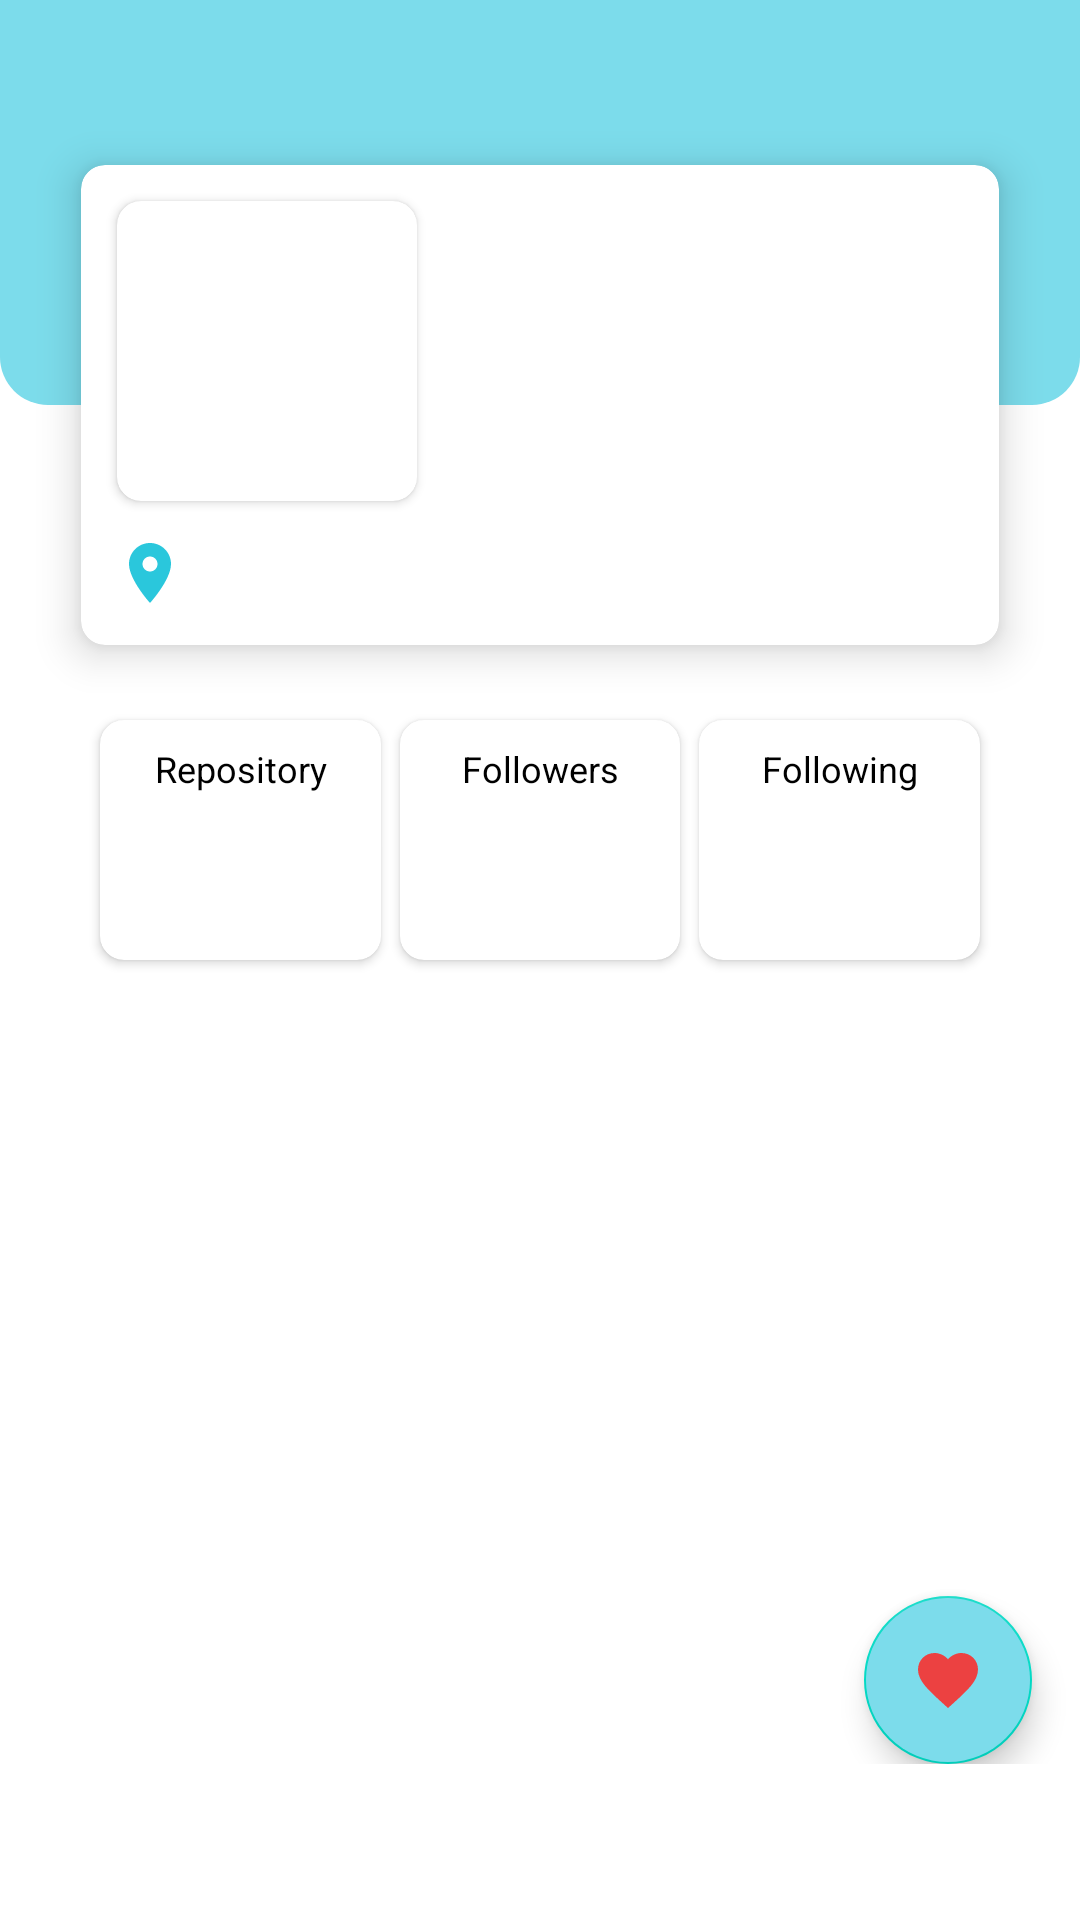

Icon bounding boxes for this 1080*1920 phone screenshot, format {"x1": x1, "y1": y1, "x2": x2, "y2": y2}:
Favorite Button: {"x1": 864, "y1": 1596, "x2": 1032, "y2": 1764}
Icon Location: {"x1": 129, "y1": 543, "x2": 171, "y2": 603}
